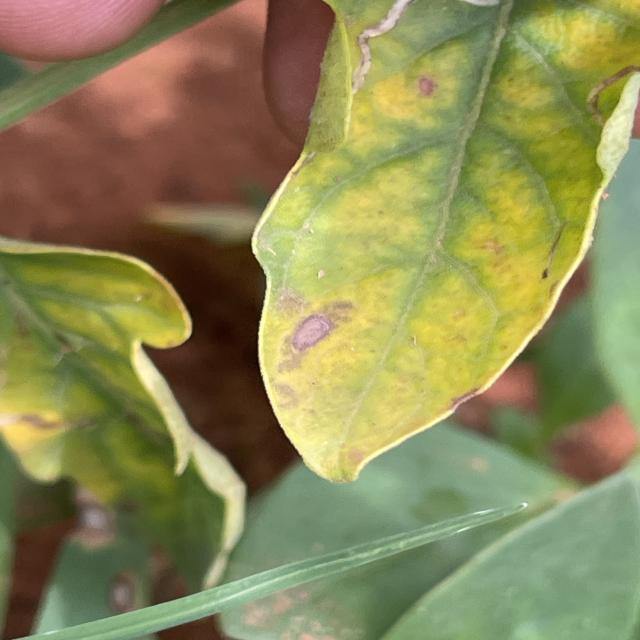tomato_early blight: (252, 0, 640, 482), (1, 238, 244, 591)
